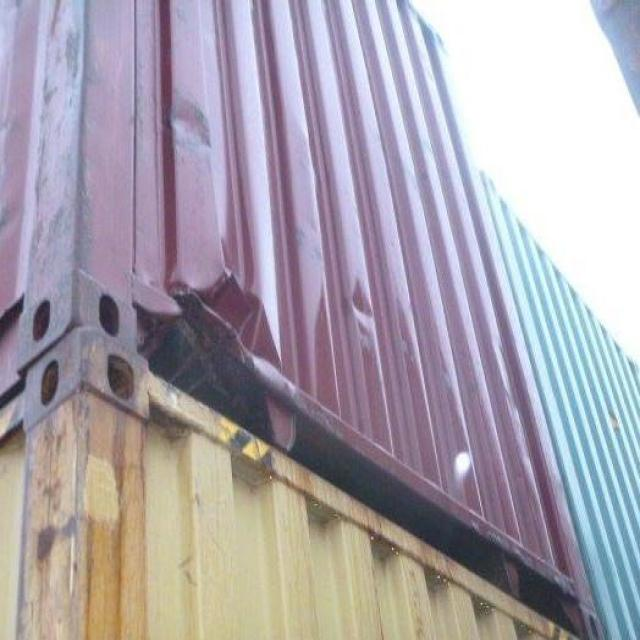dent: (158, 269, 285, 393), (168, 85, 216, 156), (346, 275, 385, 358)
